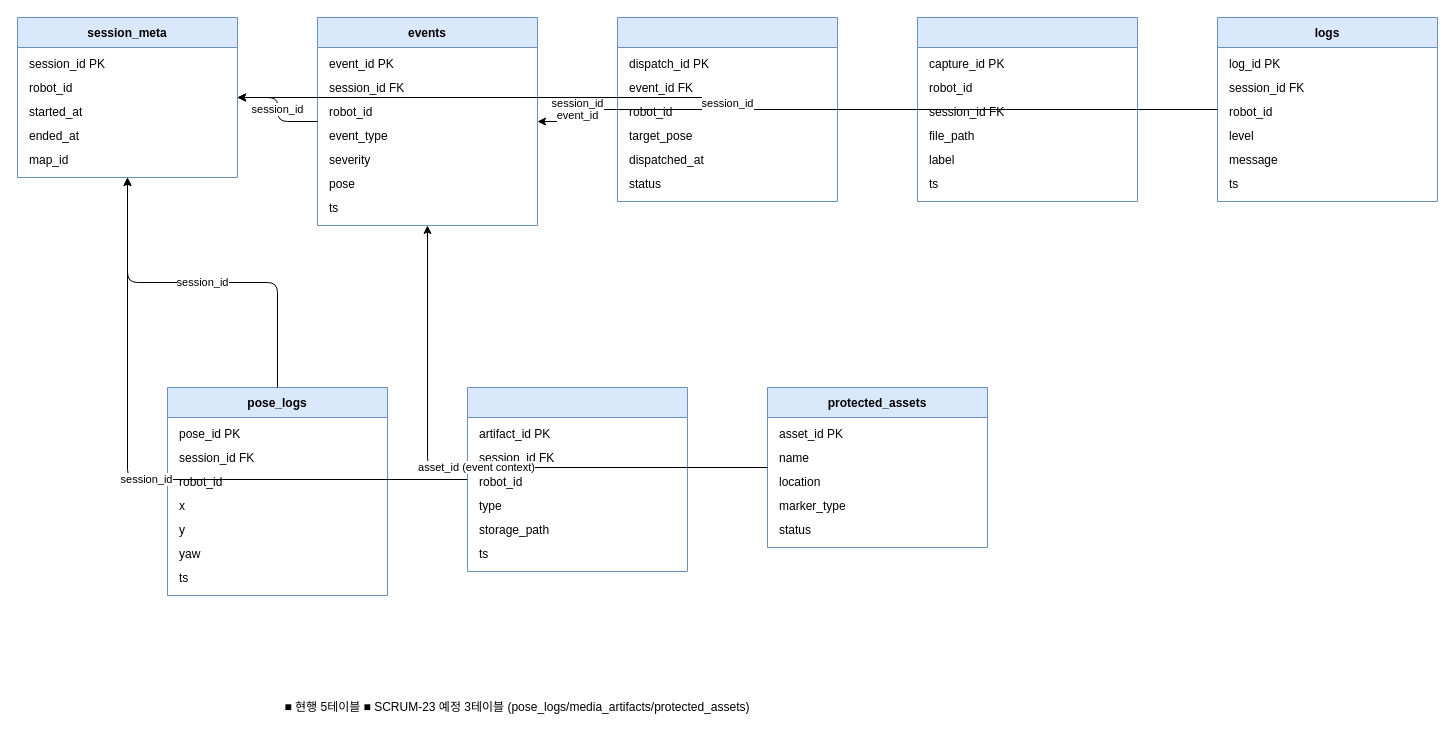
Some shapes in this 1455 by 745 pixel diagram are drawn without their labels. The box of each missing label's shape, as (x1, y1, x2, y2) in pixels:
camera_captures: (916, 16, 1138, 202)
dispatches: (616, 16, 838, 202)
media_artifacts: (466, 386, 688, 572)
